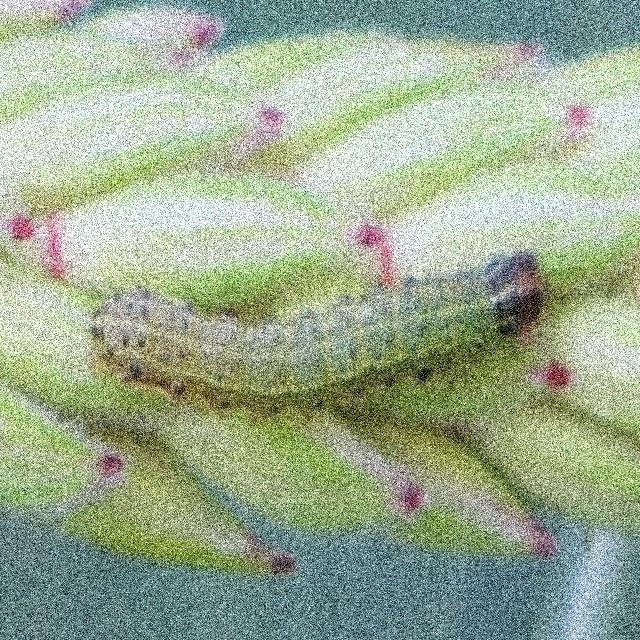Plaga: (96, 250, 543, 405)
